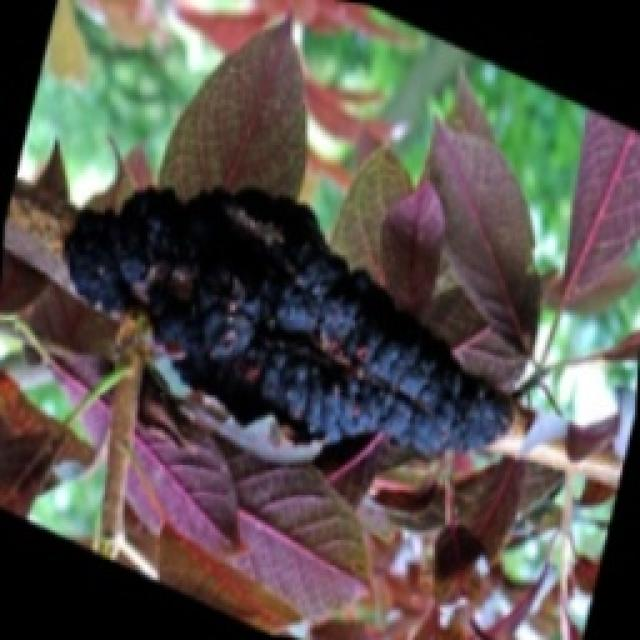Black_knot: (60, 178, 515, 460)
